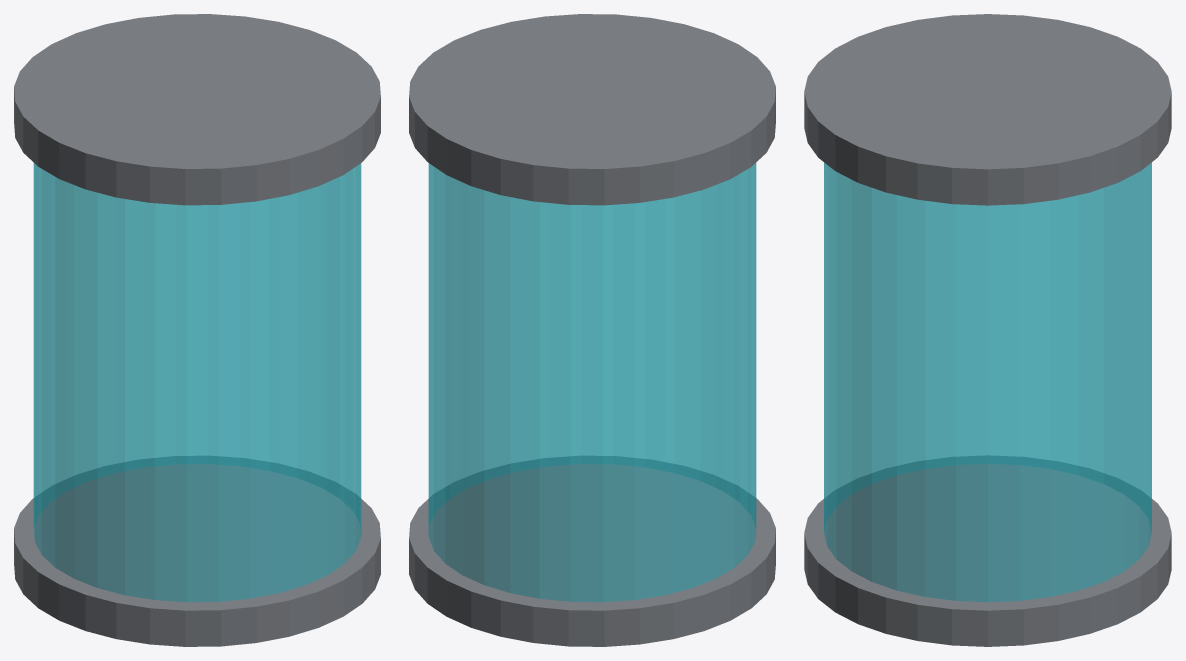
File: teleport_throne.glb
3 renders of one model, left to right at view 1: azimuth 30°, elevation 25°; view 2: azimuth 150°, elevation 25°; view 3: azimuth 270°, elevation 25°, orthographic.
Parts seen in each view (by area): view 1: Portal_throne_mid, Portal_throne_top, Portal_throne_bottom-action; view 2: Portal_throne_mid, Portal_throne_top, Portal_throne_bottom-action; view 3: Portal_throne_mid, Portal_throne_top, Portal_throne_bottom-action.
Part boxes in pixels (x1=…): Portal_throne_mid: x1=33, y1=163, x2=361, y2=602; Portal_throne_top: x1=14, y1=14, x2=380, y2=205; Portal_throne_bottom-action: x1=14, y1=456, x2=380, y2=646; Portal_throne_mid: x1=428, y1=163, x2=756, y2=602; Portal_throne_top: x1=409, y1=14, x2=775, y2=205; Portal_throne_bottom-action: x1=409, y1=456, x2=775, y2=646; Portal_throne_mid: x1=824, y1=162, x2=1151, y2=602; Portal_throne_top: x1=804, y1=14, x2=1171, y2=205; Portal_throne_bottom-action: x1=804, y1=455, x2=1171, y2=646.
Bounding box in the file's own units: 0.3766 × 0.5401 × 0.3766.
